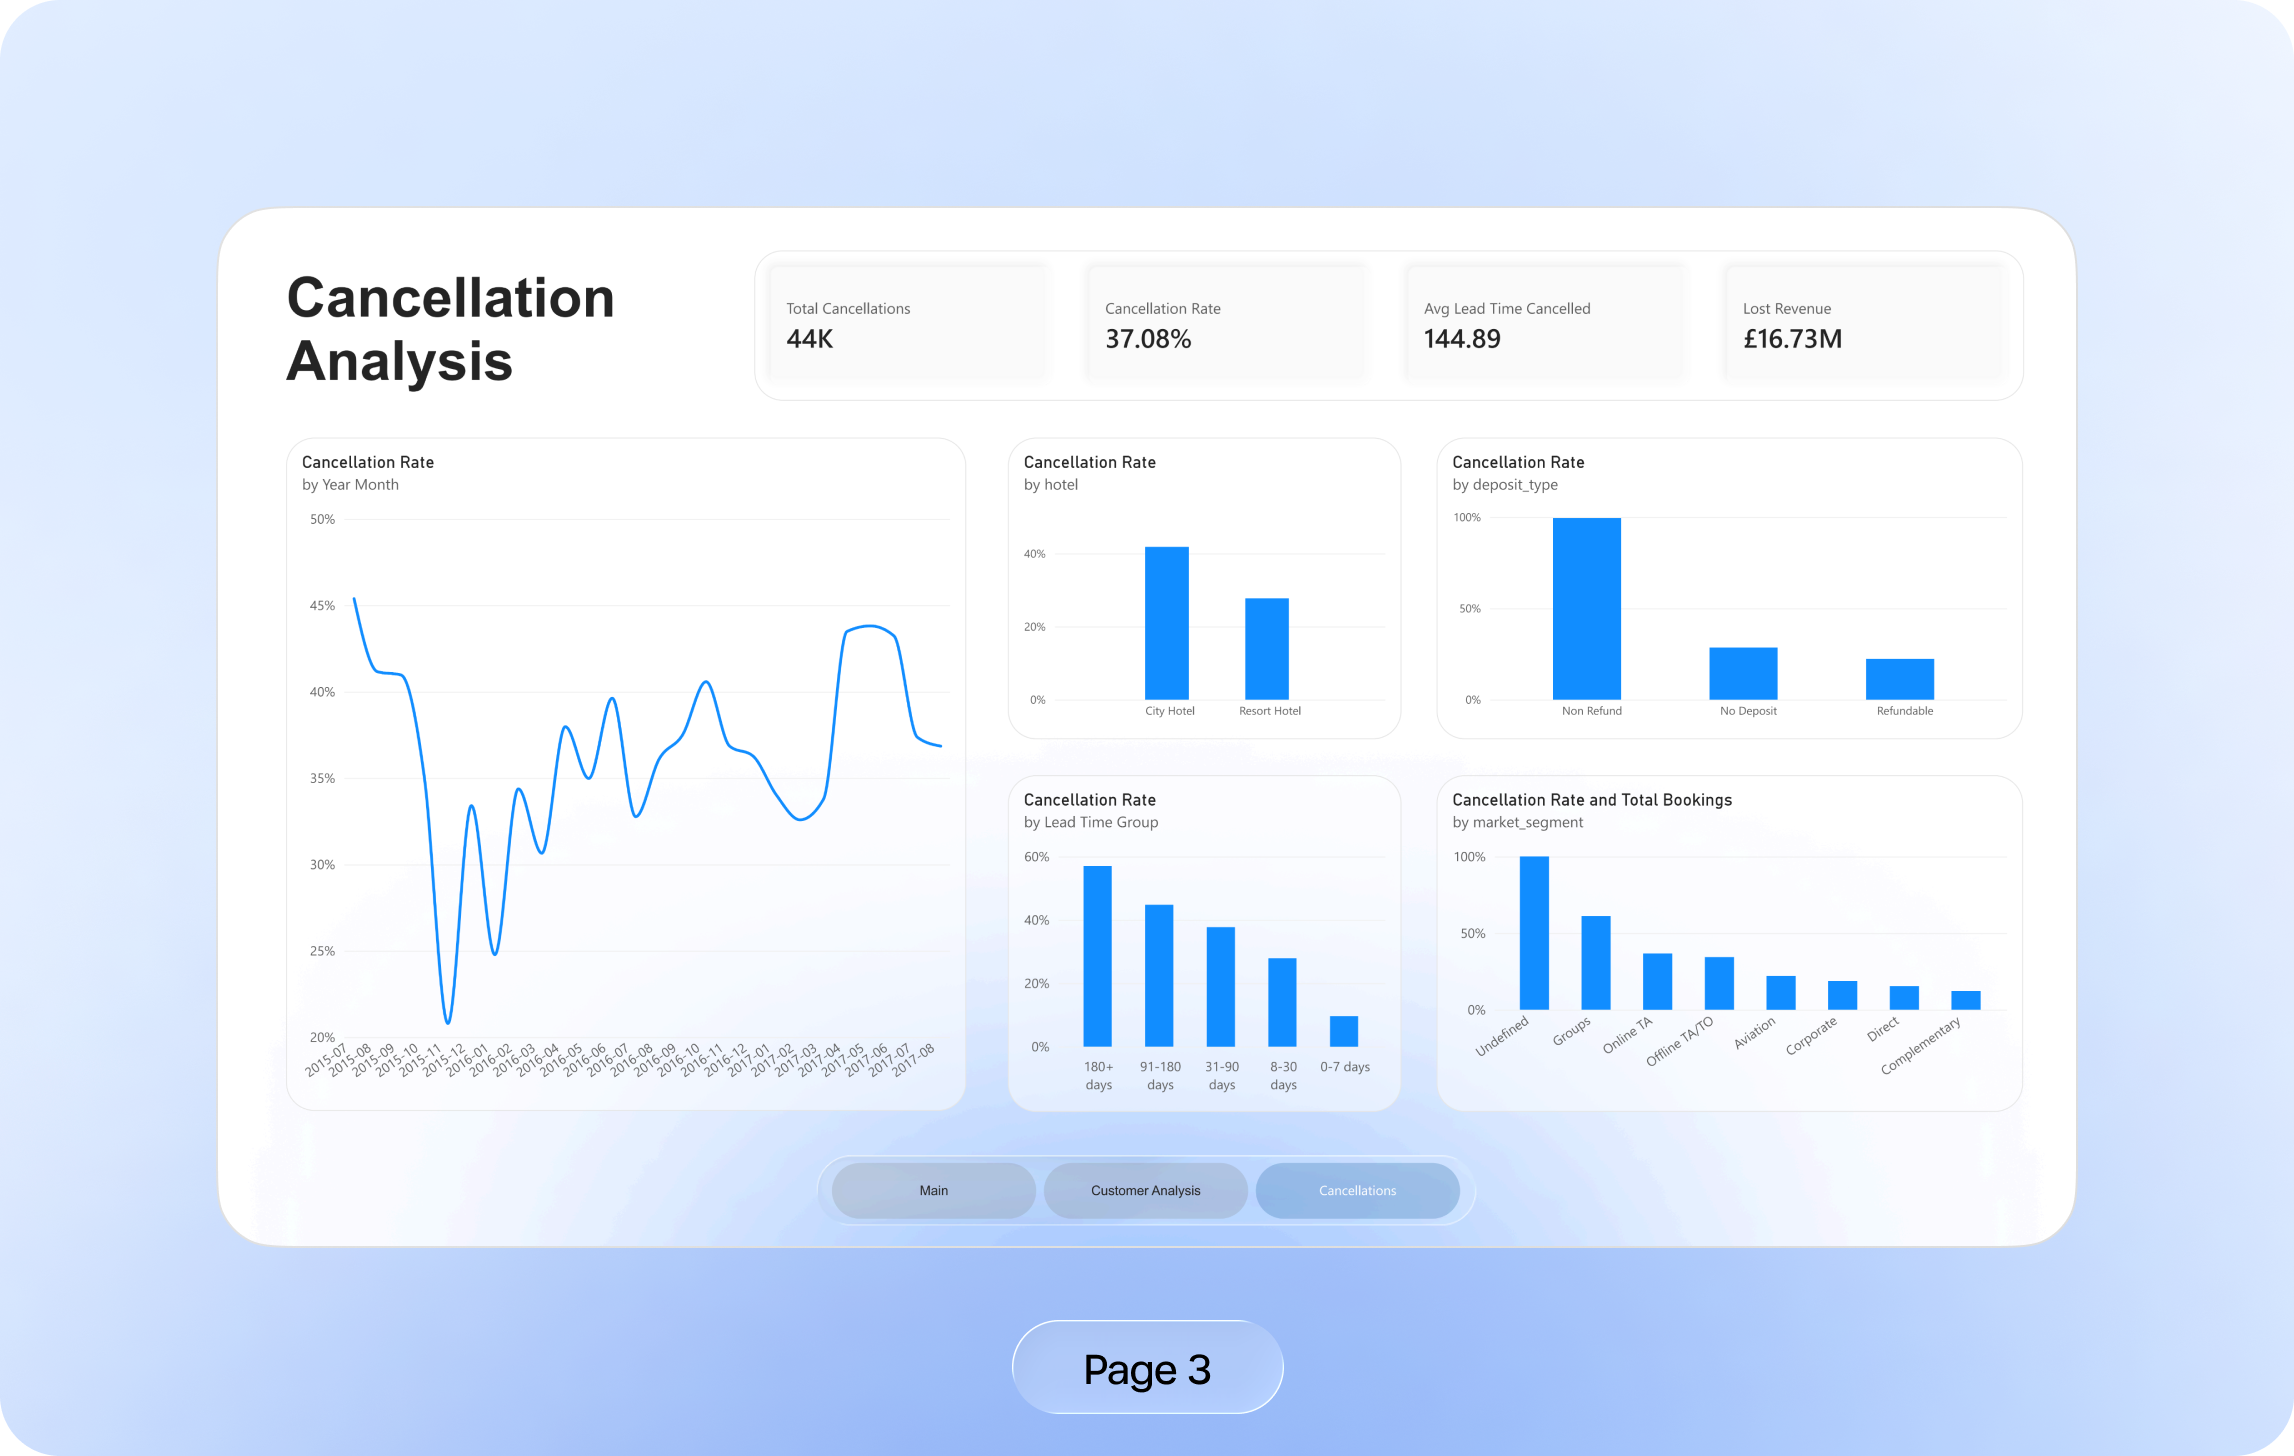

What the dashboard file says about the page in this screenshot:
{"tool":"powerbi","page":{"name":"Cancellations","canvas":[1920,1080],"ordinal":2},"visuals":[{"type":"cardVisual","fields":{"Data":["public vw_hotel_analysis.Total Cancellations","public vw_hotel_analysis.Cancellation Rate","public vw_hotel_analysis.Avg Lead Time Cancelled","public vw_hotel_analysis.Lost Revenue"]},"box":[545,23.3,1341.7,158.3],"z":0},{"type":"textbox","box":[50,38.8,448.8,143.8],"z":1000},{"type":"lineChart","fields":{"Category":["Calendar.Year Month"],"Y":["public vw_hotel_analysis.Cancellation Rate"]},"box":[50,221.2,718.8,711.2],"z":2000},{"type":"clusteredColumnChart","fields":{"Category":["public vw_hotel_analysis.hotel"],"Y":["public vw_hotel_analysis.Cancellation Rate"]},"box":[812.5,221.2,416.2,318.8],"z":3000},{"type":"lineClusteredColumnComboChart","fields":{"Category":["public vw_hotel_analysis.Lead Time Group"],"Y":["public vw_hotel_analysis.Cancellation Rate"]},"box":[812.5,577.5,416.2,356.2],"z":4000},{"type":"clusteredColumnChart","fields":{"Category":["public vw_hotel_analysis.deposit_type"],"Y":["public vw_hotel_analysis.Cancellation Rate"]},"box":[1266.2,221.2,620,318.8],"z":5000},{"type":"clusteredColumnChart","fields":{"Category":["public vw_hotel_analysis.market_segment"],"Y":["public vw_hotel_analysis.Cancellation Rate"]},"box":[1266.2,577.5,620,356.2],"z":6000},{"type":"pageNavigator","box":[627,988,666,59],"z":8000}]}

Visuals, with their boxes on the page's 1920x1080 design canvas (x1, y1, x2, y2). These are canvas units, not pixel positions in the 2294x1456 screenshot, which may show the page scaled, cropped or inside an application window:
cardVisual - public vw_hotel_analysis.Total Cancellations x public vw_hotel_analysis.Cancellation Rate: locate(545, 23, 1887, 182)
textbox: locate(50, 39, 499, 183)
lineChart - Calendar.Year Month x public vw_hotel_analysis.Cancellation Rate: locate(50, 221, 769, 932)
clusteredColumnChart - public vw_hotel_analysis.hotel x public vw_hotel_analysis.Cancellation Rate: locate(812, 221, 1229, 540)
lineClusteredColumnComboChart - public vw_hotel_analysis.Lead Time Group x public vw_hotel_analysis.Cancellation Rate: locate(812, 578, 1229, 934)
clusteredColumnChart - public vw_hotel_analysis.deposit_type x public vw_hotel_analysis.Cancellation Rate: locate(1266, 221, 1886, 540)
clusteredColumnChart - public vw_hotel_analysis.market_segment x public vw_hotel_analysis.Cancellation Rate: locate(1266, 578, 1886, 934)
pageNavigator: locate(627, 988, 1293, 1047)
